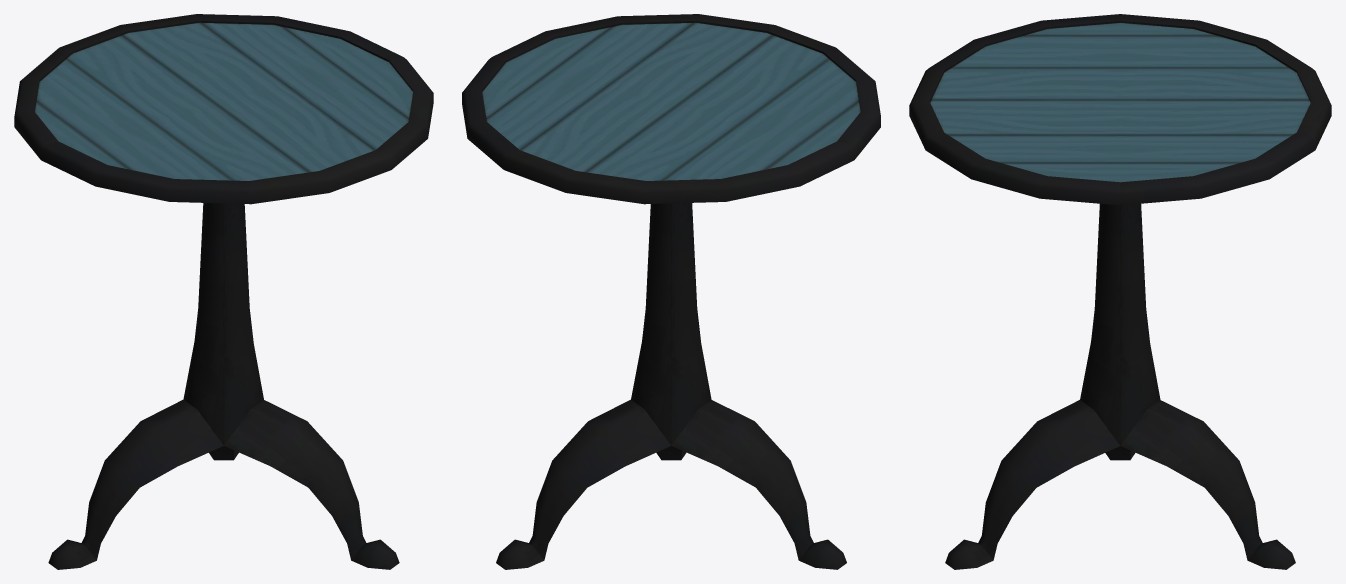
The picture shows the model from 3 angles, left to right: view 1: azimuth 30°, elevation 25°; view 2: azimuth 150°, elevation 25°; view 3: azimuth 270°, elevation 25°; orthographic projection.
Parts seen in each view (by area): view 1: body0_model0_lod0_mesh1, body0_model0_lod0_mesh0; view 2: body0_model0_lod0_mesh1, body0_model0_lod0_mesh0; view 3: body0_model0_lod0_mesh1, body0_model0_lod0_mesh0.
Part boxes in pixels (x1,y1,x2,y2): body0_model0_lod0_mesh1: [14, 14, 433, 569]; body0_model0_lod0_mesh0: [34, 22, 413, 180]; body0_model0_lod0_mesh1: [462, 14, 880, 569]; body0_model0_lod0_mesh0: [482, 22, 860, 180]; body0_model0_lod0_mesh1: [909, 14, 1331, 569]; body0_model0_lod0_mesh0: [930, 22, 1310, 182].
Bounding box in the file's own units: 36.53 × 40.42 × 36.53.
Materials: 2 (2 with a texture image).
